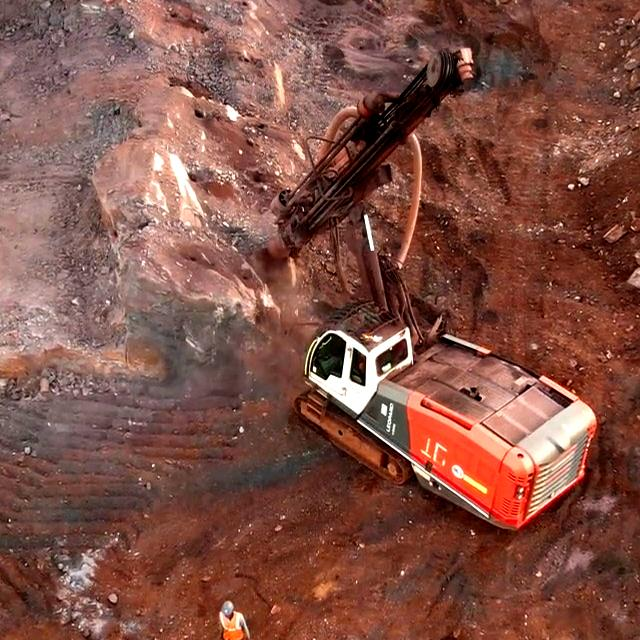Blast rig: (309, 317, 474, 460)
person: (219, 600, 250, 640)
